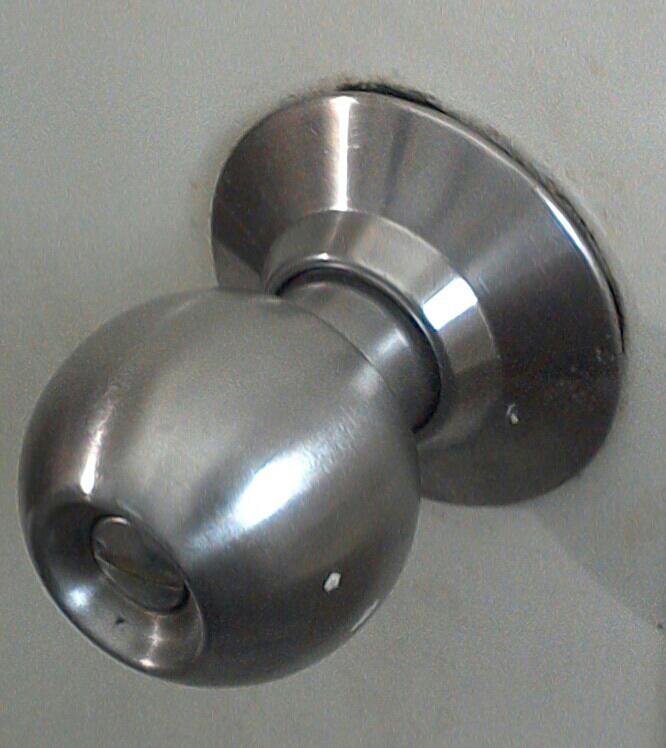doorhandle: (12, 219, 593, 703)
